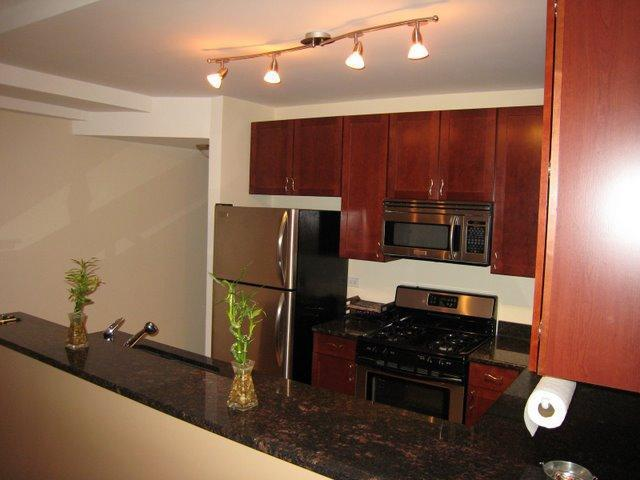Electrodomestico: (209, 203, 313, 364), (357, 300, 504, 370)
